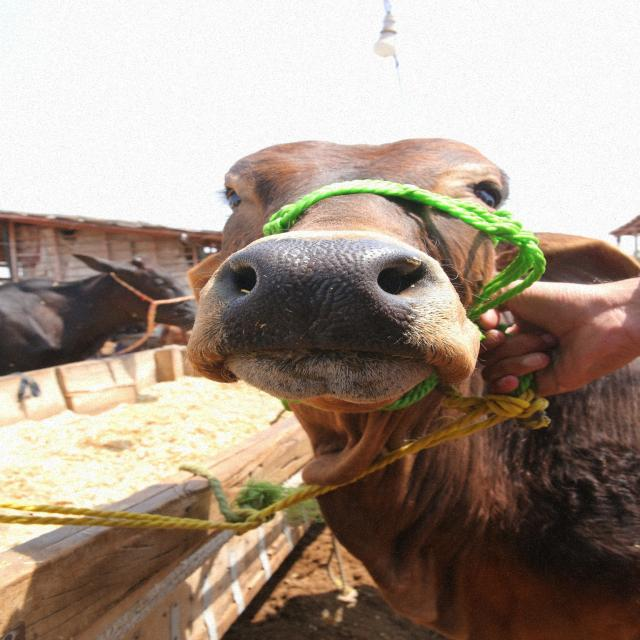muzzles: (190, 234, 456, 380)
